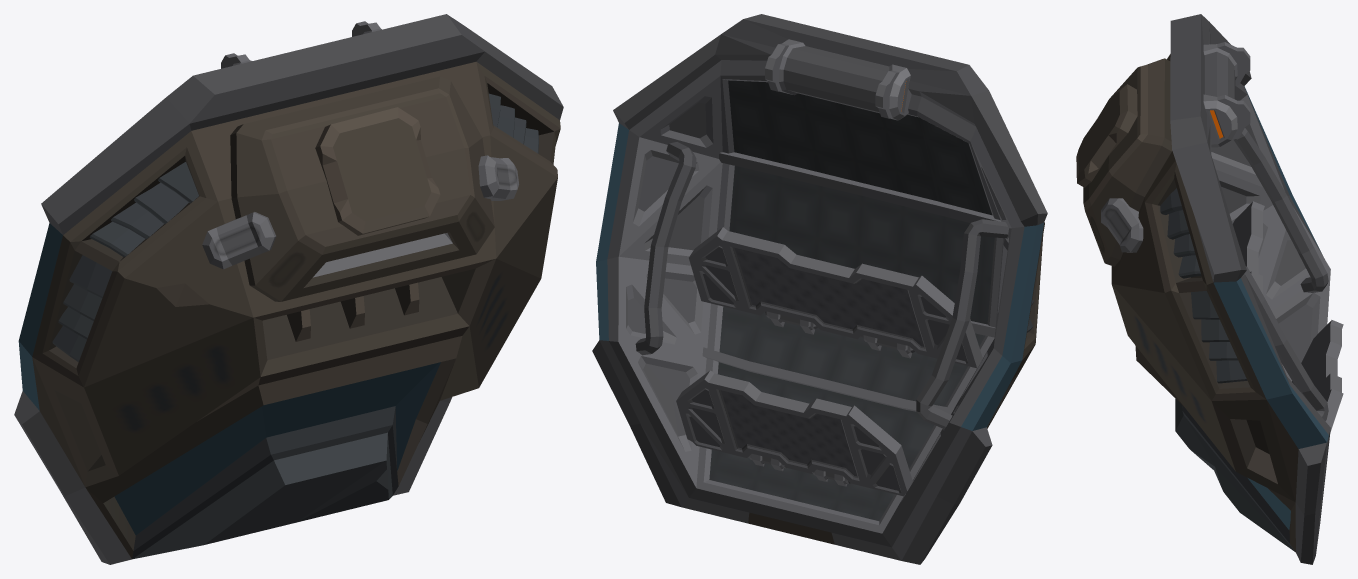
Rendered from SM_Mech_Cockpit_01_Armor_Door_03.fbx.
The picture shows the model from 3 angles, left to right: view 1: azimuth 30°, elevation 25°; view 2: azimuth 150°, elevation 25°; view 3: azimuth 270°, elevation 25°; orthographic projection. The views are drawn at different scales.
Parts seen in each view (by area): view 1: SM_Mech_Cockpit_01_Armor_Door_03; view 2: SM_Mech_Cockpit_01_Armor_Door_03; view 3: SM_Mech_Cockpit_01_Armor_Door_03.
Part boxes in pixels (x1,y1,x2,y2): SM_Mech_Cockpit_01_Armor_Door_03: [14, 14, 563, 564]; SM_Mech_Cockpit_01_Armor_Door_03: [592, 14, 1047, 564]; SM_Mech_Cockpit_01_Armor_Door_03: [1076, 14, 1343, 564].
Size of the model in its own units: 111 by 111 by 61.36.
